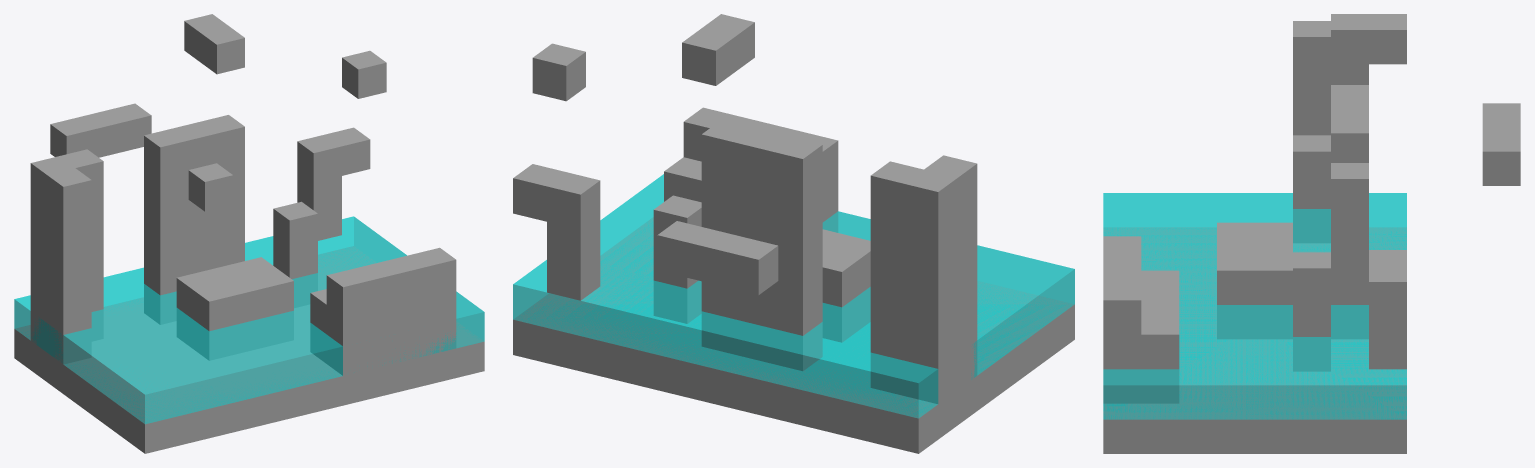
Rendered from earth_teaser_env.fbx.
3 renders of one model, left to right at view 1: azimuth 30°, elevation 25°; view 2: azimuth 150°, elevation 25°; view 3: azimuth 270°, elevation 25°, orthographic. The views are drawn at different scales.
Parts seen in each view (by area): view 1: env, water; view 2: env, water; view 3: env, water.
Boxes of the visible parts, x1=… form: env: x1=14, y1=14, x2=484, y2=453; water: x1=14, y1=216, x2=484, y2=424; env: x1=513, y1=14, x2=1074, y2=453; water: x1=513, y1=174, x2=1074, y2=418; env: x1=1103, y1=14, x2=1520, y2=453; water: x1=1103, y1=193, x2=1406, y2=419.
Size of the model in its own units: 120 by 100 by 110.
